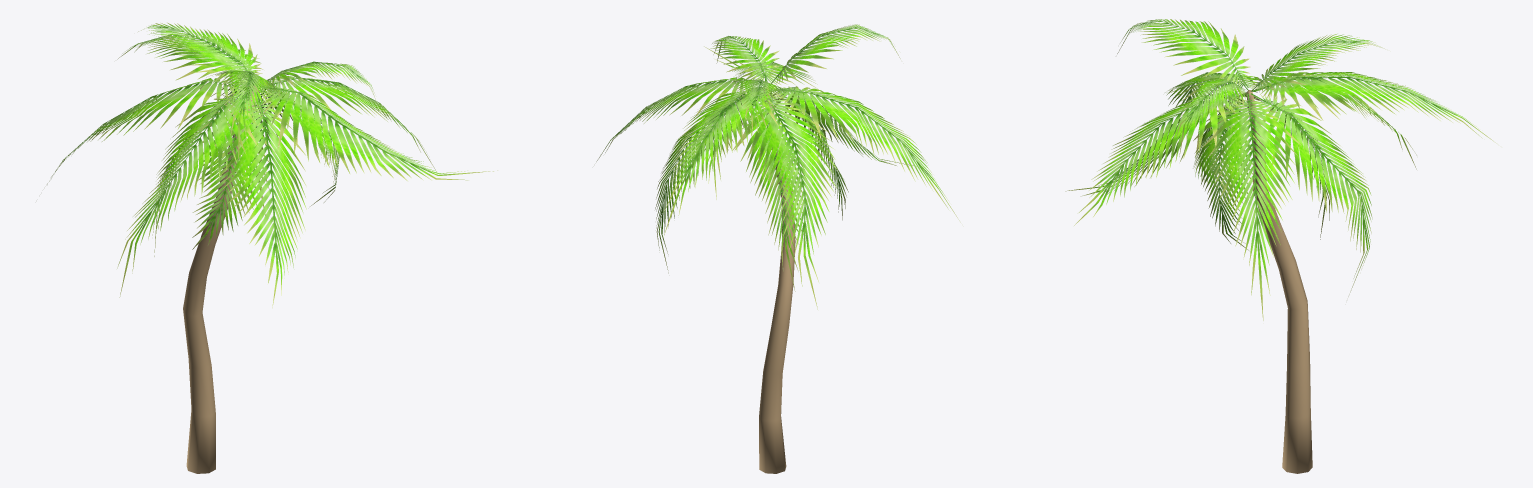
The model's file is palmtree.fbx.
3 views of the same model, side by side, from view 1: azimuth 30°, elevation 25°; view 2: azimuth 150°, elevation 25°; view 3: azimuth 270°, elevation 25° (orthographic). The views are drawn at different scales.
Parts seen in each view (by area): view 1: Circle; view 2: Circle; view 3: Circle.
Part boxes in pixels (left/top/right/bottom): Circle: left=47, top=22, right=497, bottom=473; Circle: left=596, top=24, right=960, bottom=473; Circle: left=1065, top=19, right=1496, bottom=473.
Size of the model in its own units: 891 by 893 by 950.
